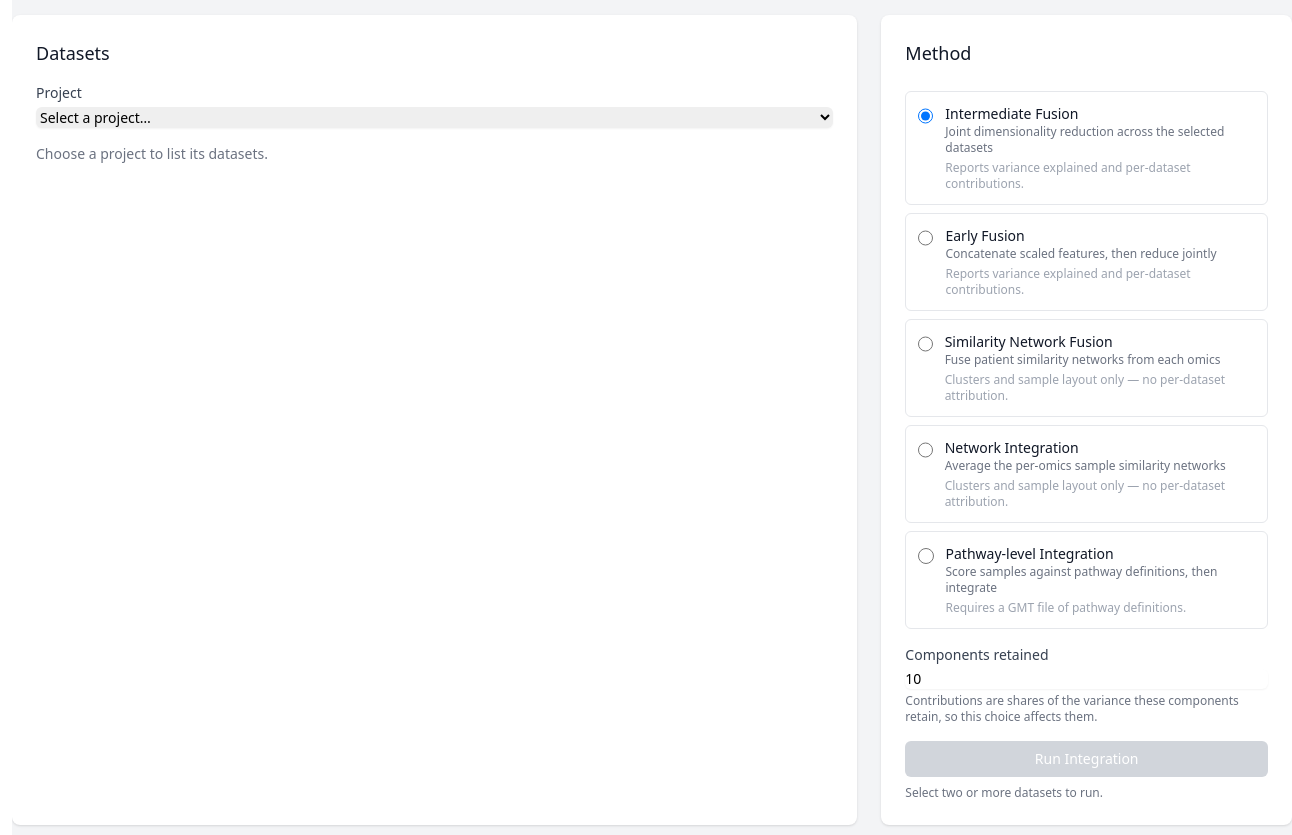
Test case: Integration page › renders the figures returned by the API, not invented ones
The image size is (1292, 835).
Select "Cohort A" in the dropdown labelled "Project" at (435, 118), box [36,107,833,128]
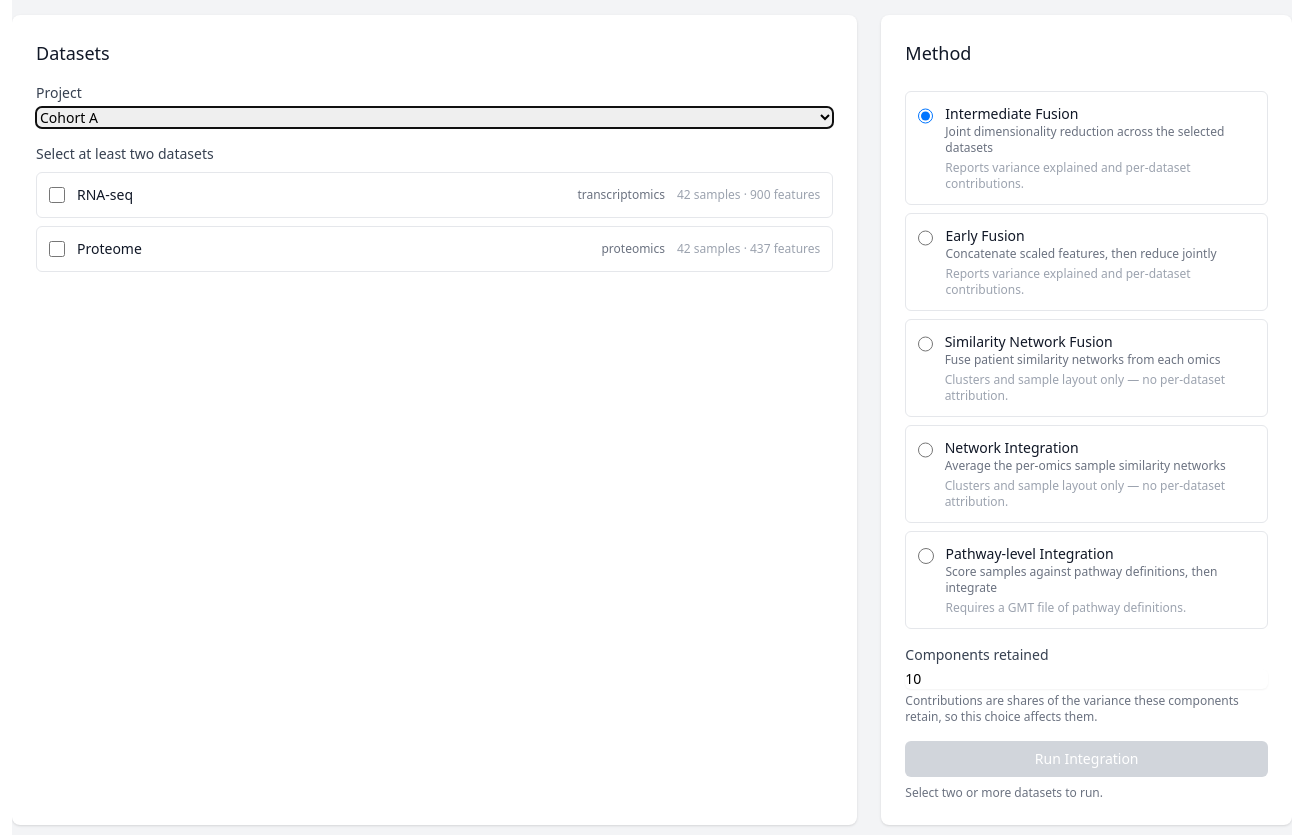
Click the checkbox labelled "RNA-seq transcriptomics 42 samples · 900 features" at (57, 195), box [49,187,65,203]
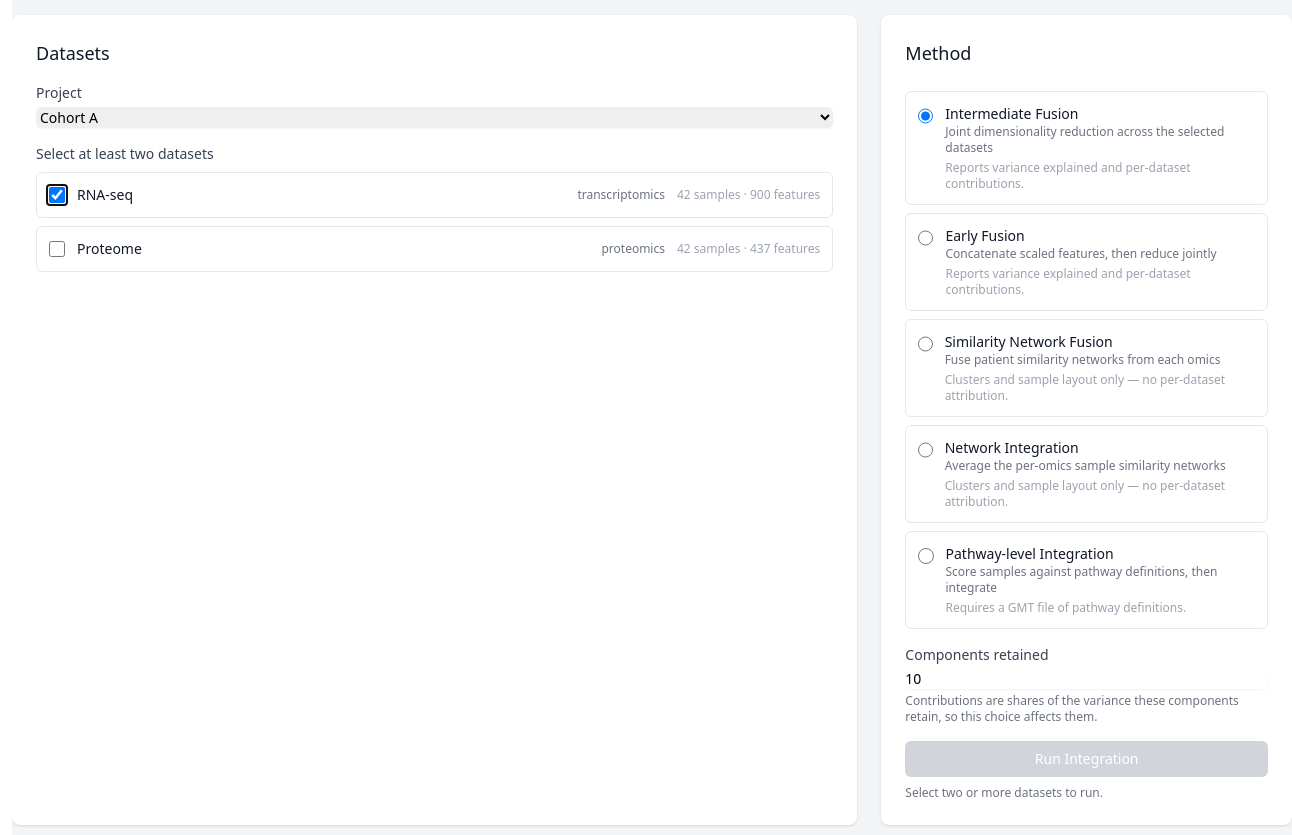
Click the checkbox labelled "Proteome proteomics 42 samples · 437 features" at (57, 249), box [49,241,65,257]
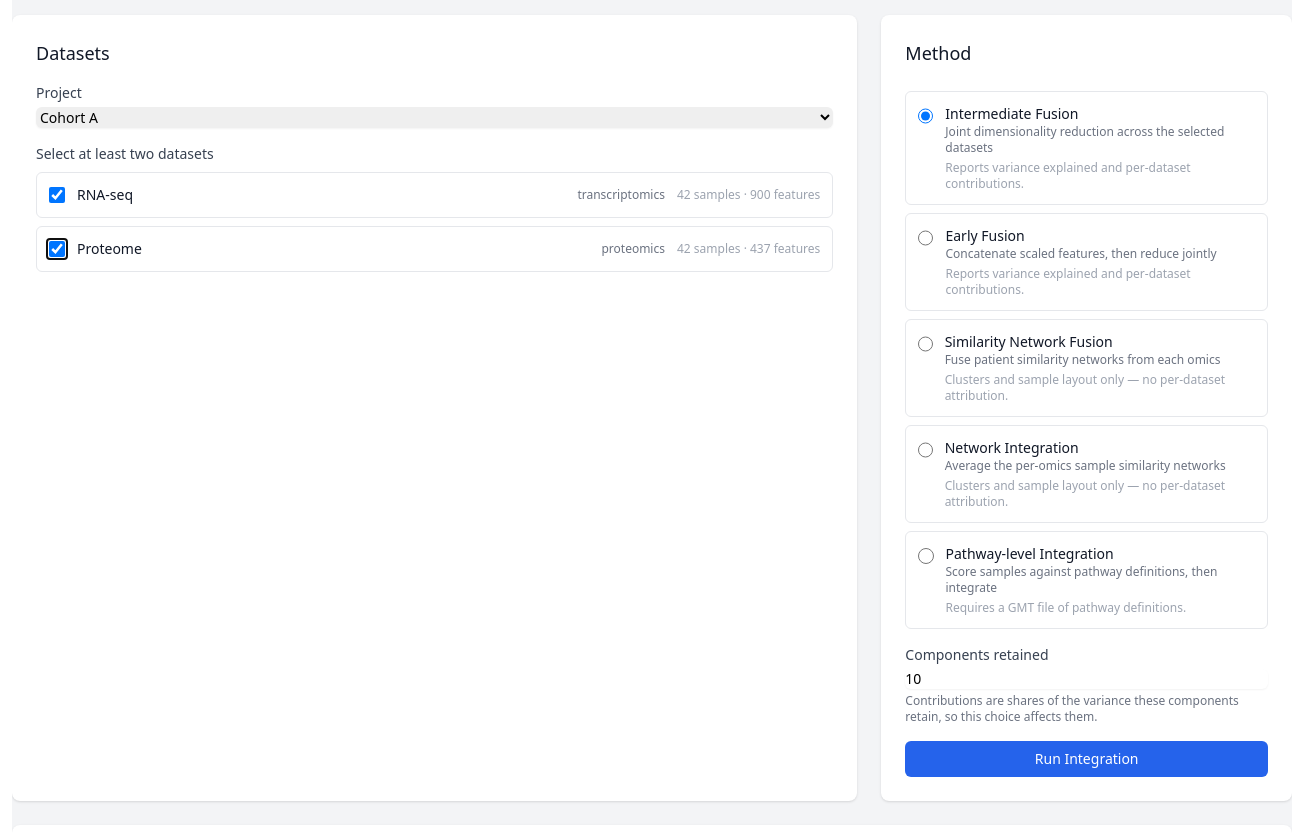
Click the button "Run Integration" at (1087, 759), box [905,741,1268,777]
(page scrolled)
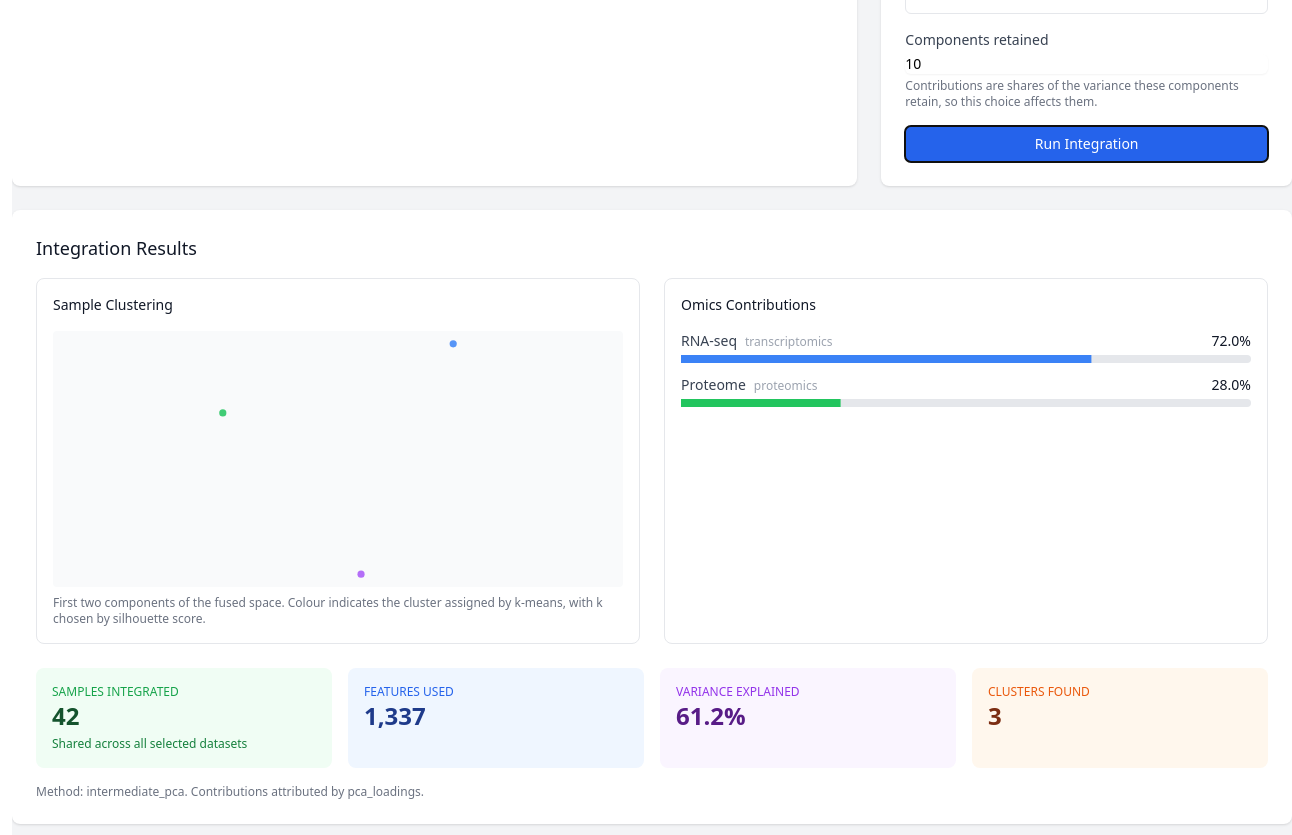
expect the heading "Integration Results" is shown: met, box [36,236,197,260]
expect the text "42" is shown: met, box [52,699,80,732]
expect the text "1,337" is shown: met, box [364,699,426,732]
